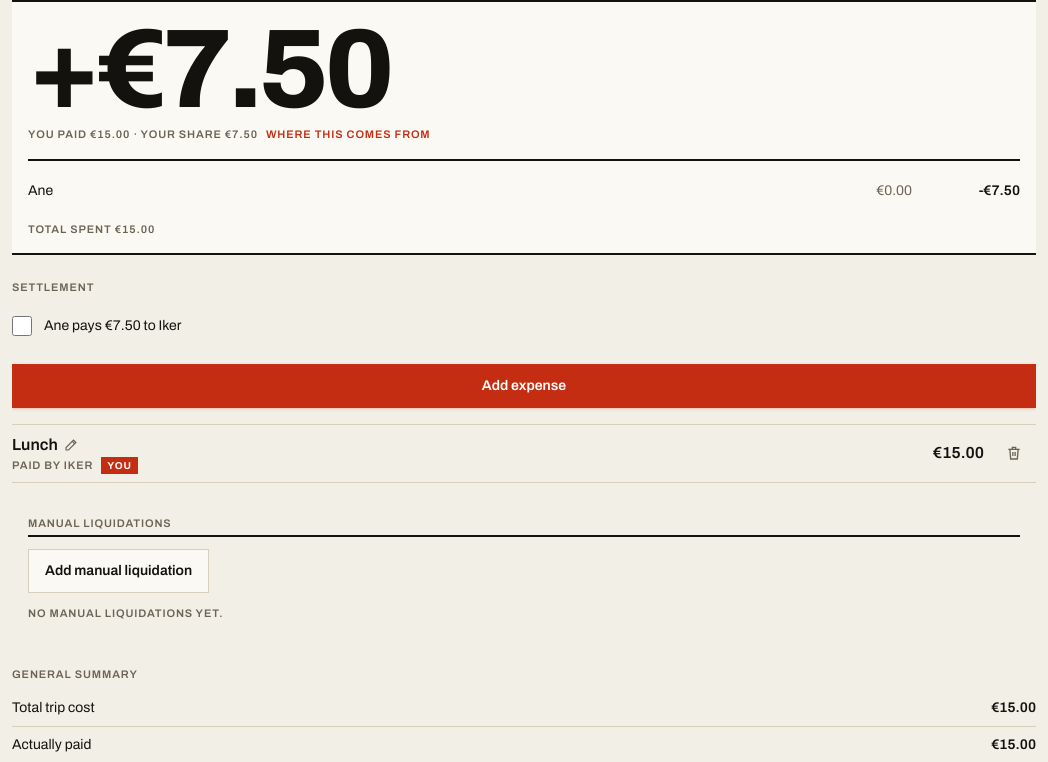
it: ExpensesTab › opens an expense for editing with its data
Click the button with aria-label "edit" at (35, 444), box [12,425,984,482]
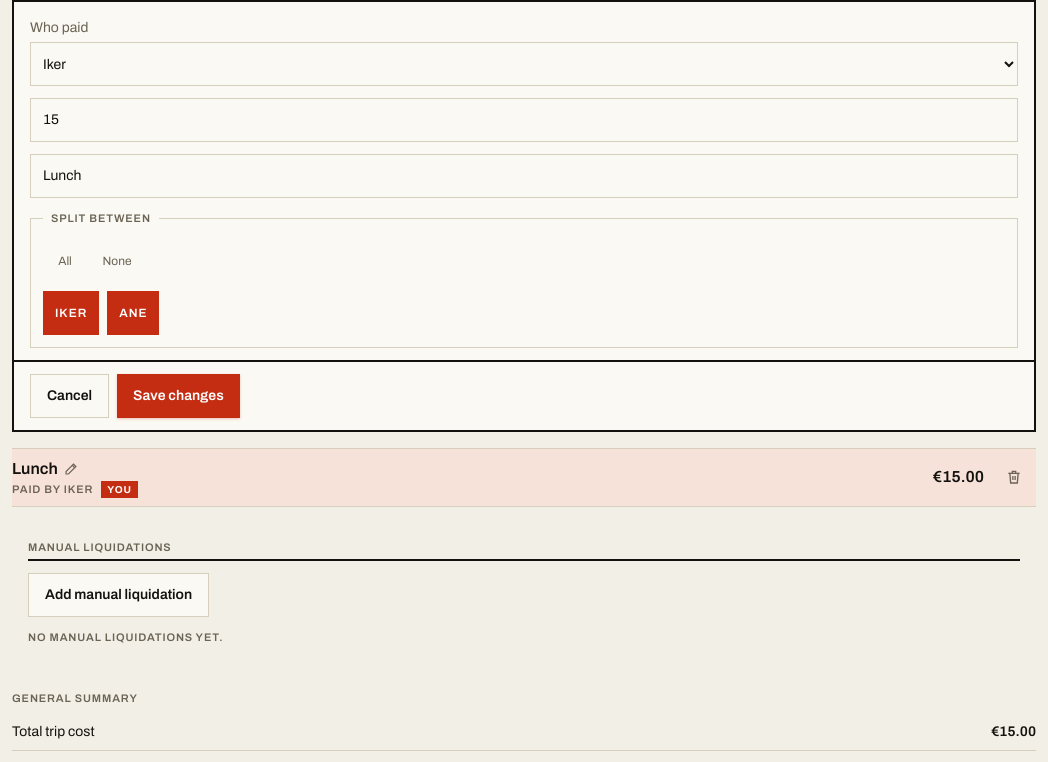
Check: the 2nd field with placeholder "What was it for" holds "Lunch", box [30,154,1018,198]
Check: the 1st field with placeholder "Amount (€)" holds "15", box [30,98,1018,142]
